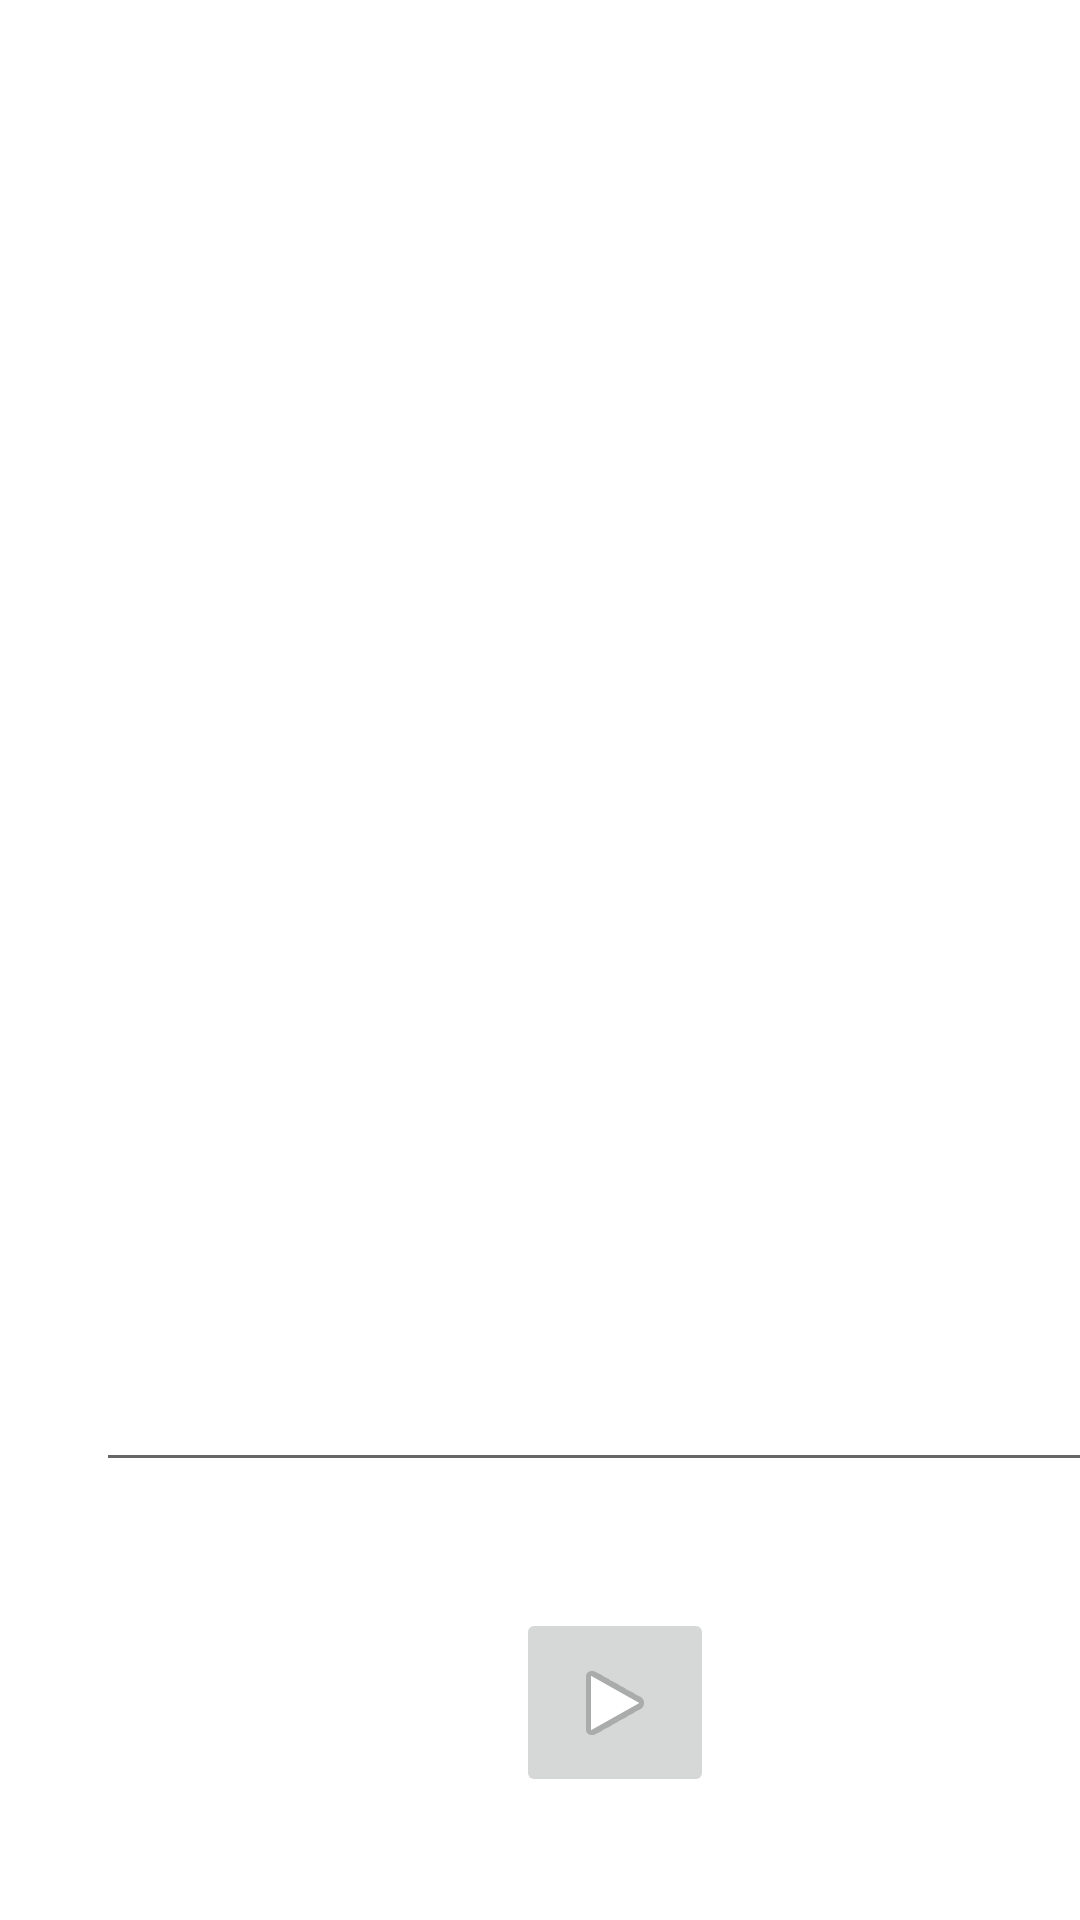

Screen size 1080px×1920px. Icon name, then its box in pixels as {"left": x1, "top": y1, "right": x2, "bottom": y2}:
play: {"left": 528, "top": 1626, "right": 702, "bottom": 1779}
